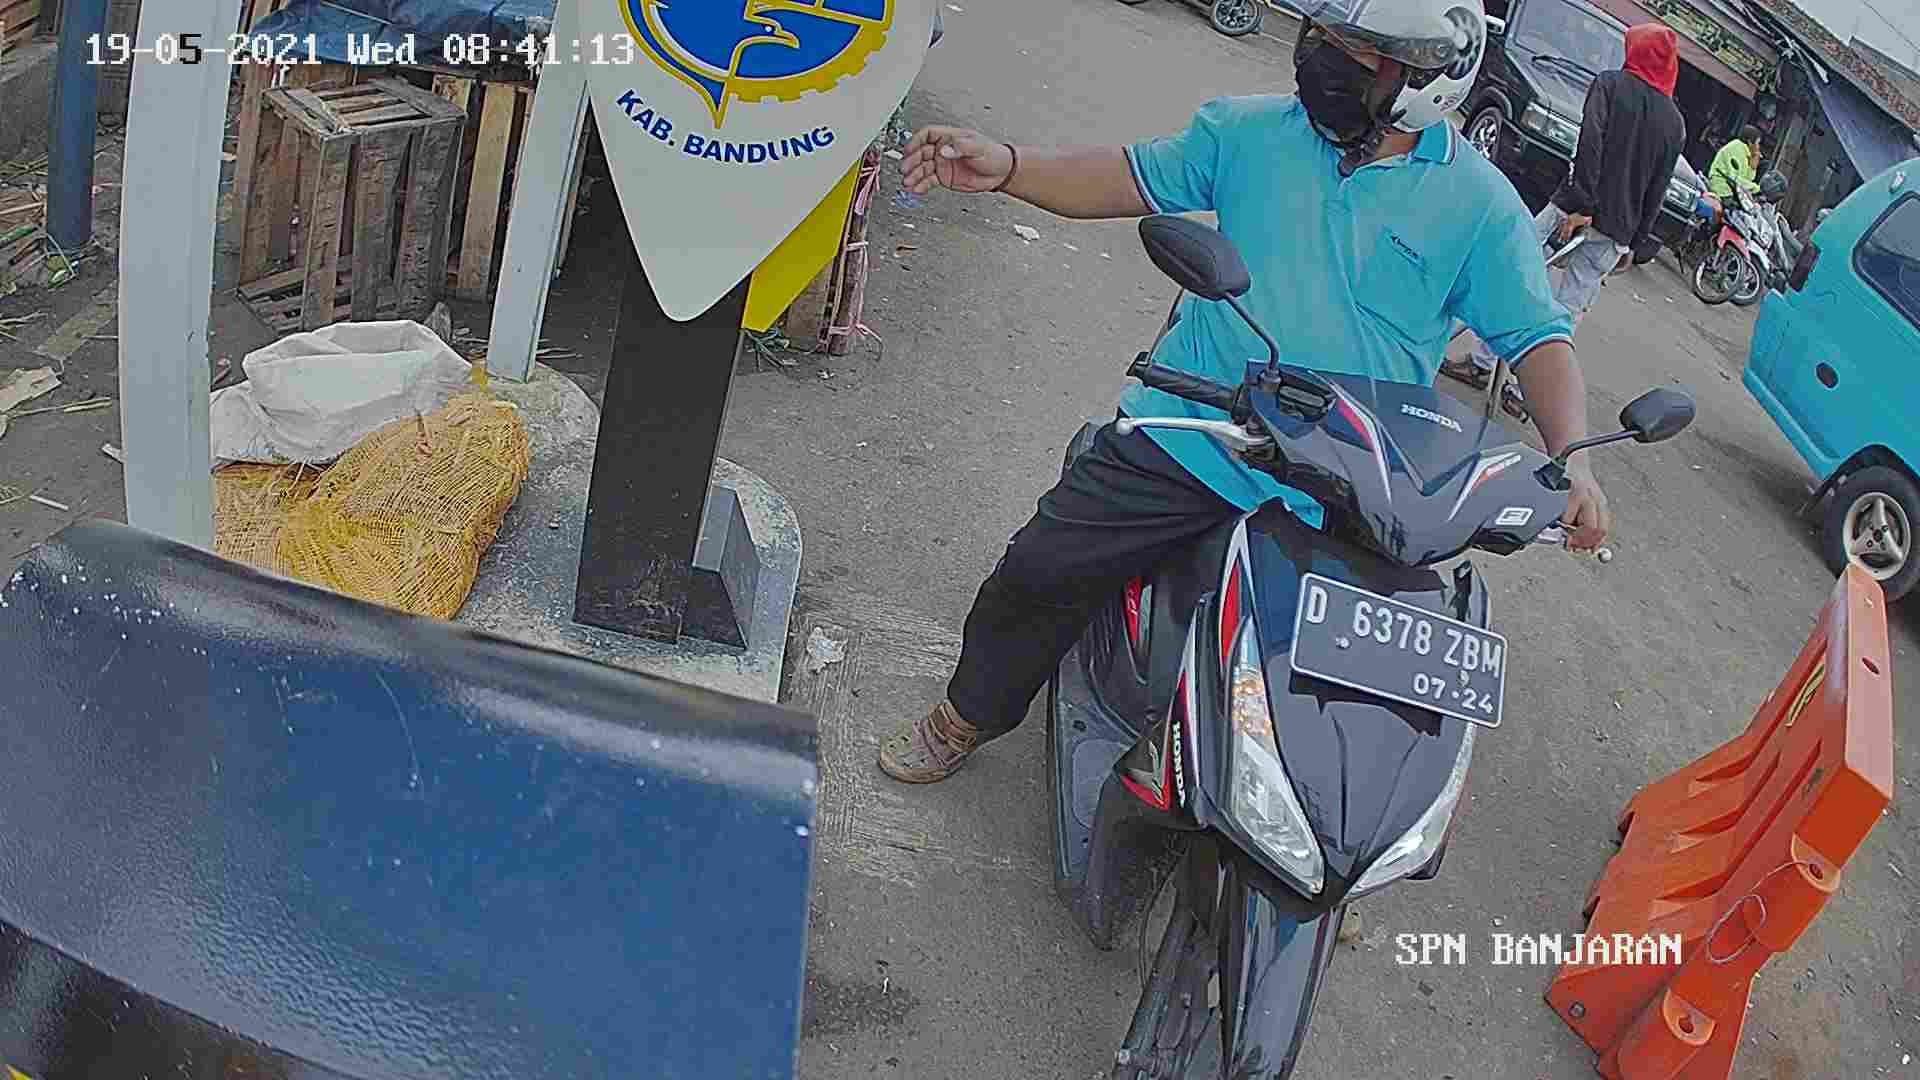motor: (1015, 334, 1565, 1080)
